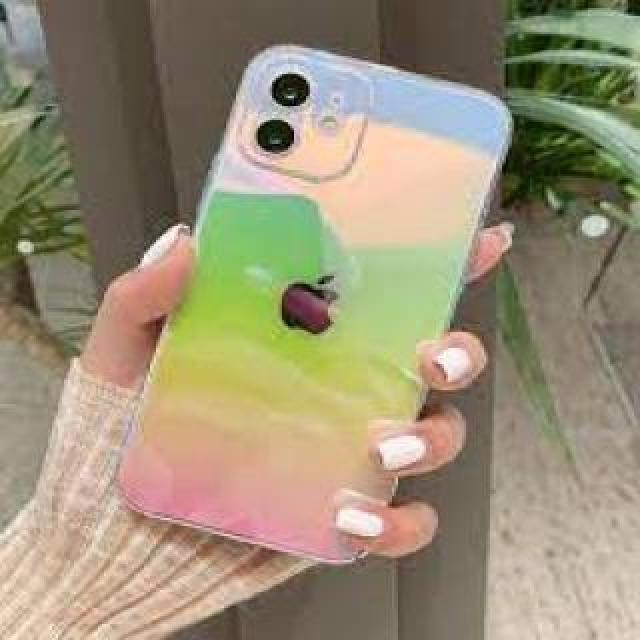smart phone: (168, 0, 474, 597)
